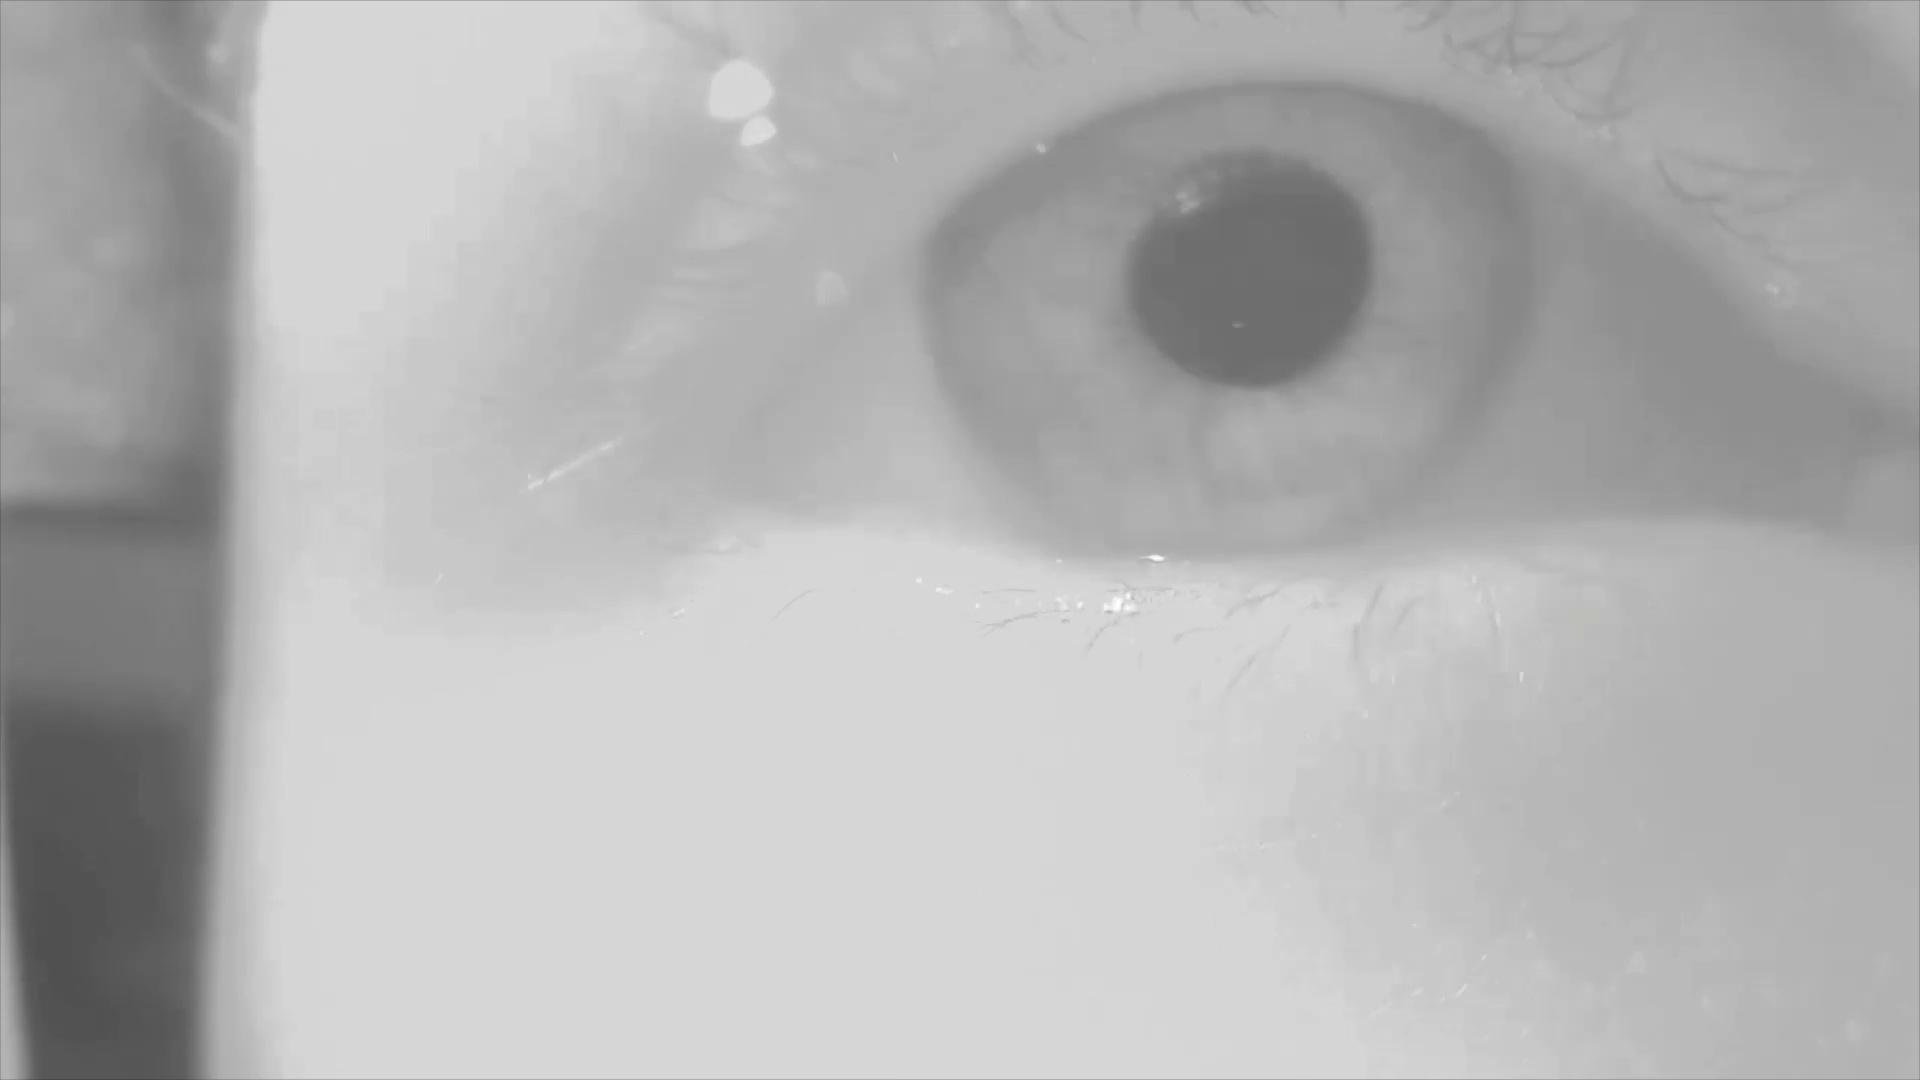pupil: (1134, 156, 1373, 388)
